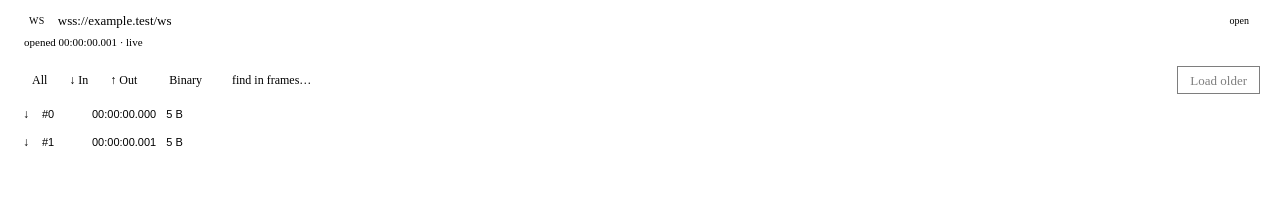
Test case: FrameTimeline › renders frame rows for the selected session and loads a body on expand
Expected: the button with test id "ws-frame-1" is shown, [8, 128, 1272, 156]
Click the button with test id "ws-frame-0". click: (44, 121)
box: [8, 100, 1272, 128]
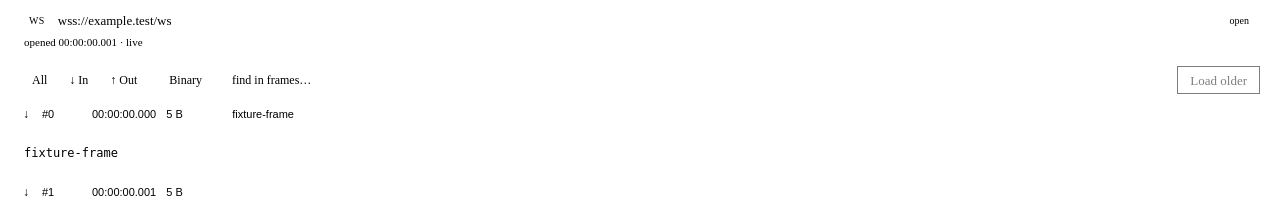
Now the element with test id "frame-body-text" reads "fixture-frame", box [24, 146, 118, 160]
